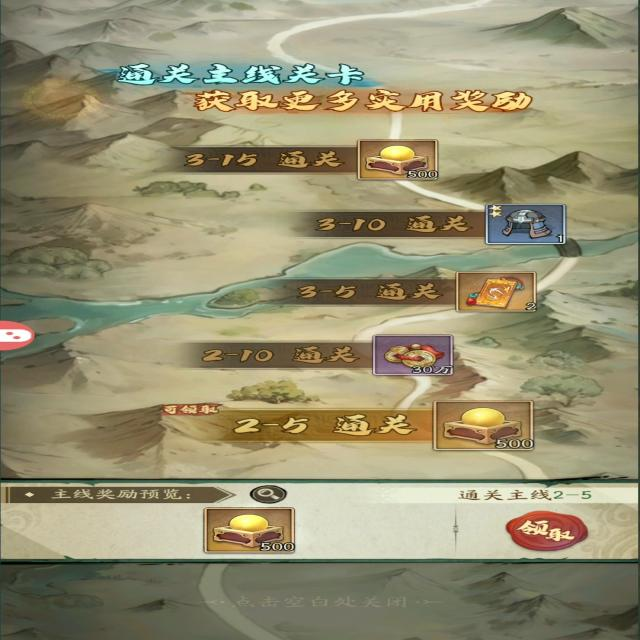operation-confirm: (464, 508, 602, 554)
operation-preview: (243, 479, 299, 506)
